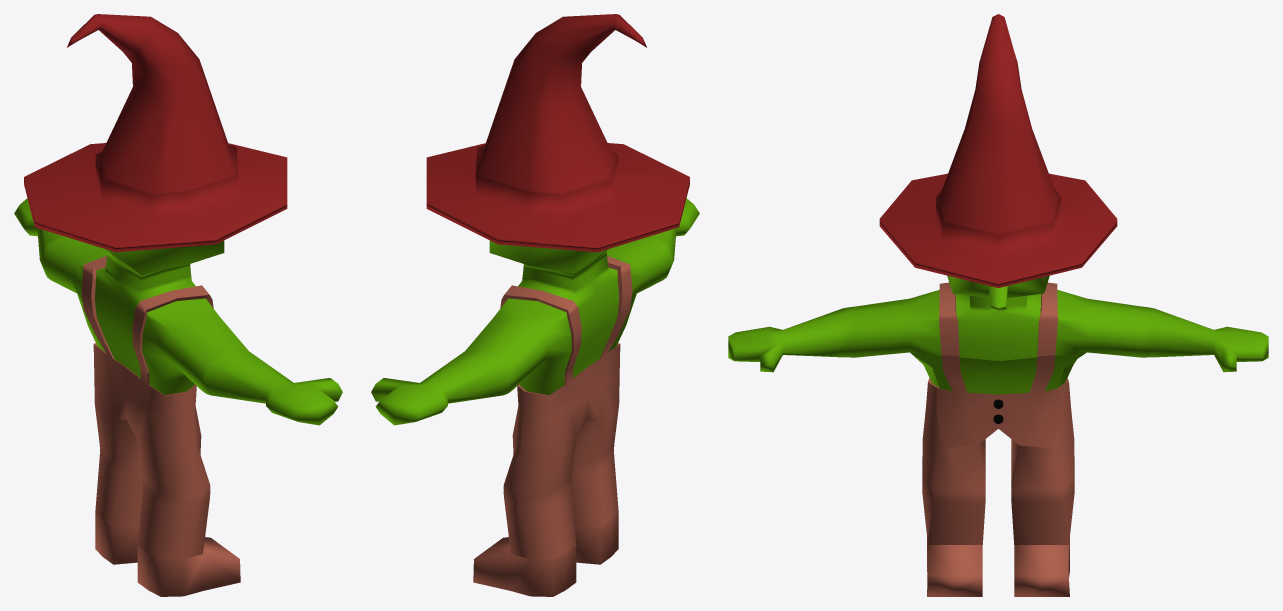
The model's file is duende sombrero.fbx.
The picture shows the model from 3 angles, left to right: view 1: azimuth 30°, elevation 25°; view 2: azimuth 150°, elevation 25°; view 3: azimuth 270°, elevation 25°; orthographic projection. The views are drawn at different scales.
Parts seen in each view (by area): view 1: duende_1; view 2: duende_1; view 3: duende_1.
Part boxes in pixels (bbox=[...]): duende_1: bbox=[14, 14, 342, 596]; duende_1: bbox=[371, 14, 699, 596]; duende_1: bbox=[728, 14, 1268, 596].
Bounding box in the file's own units: 4.15 × 8.89 × 8.14.
